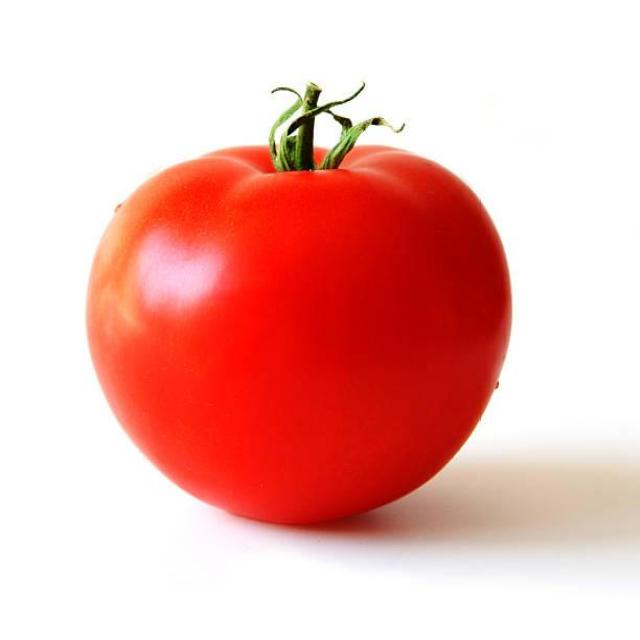Tomato: (87, 144, 510, 522)
